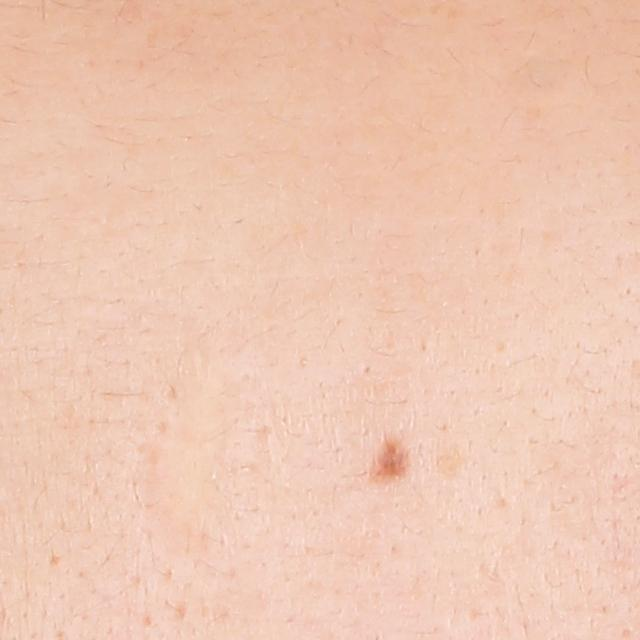nevus: (366, 436, 406, 484)
